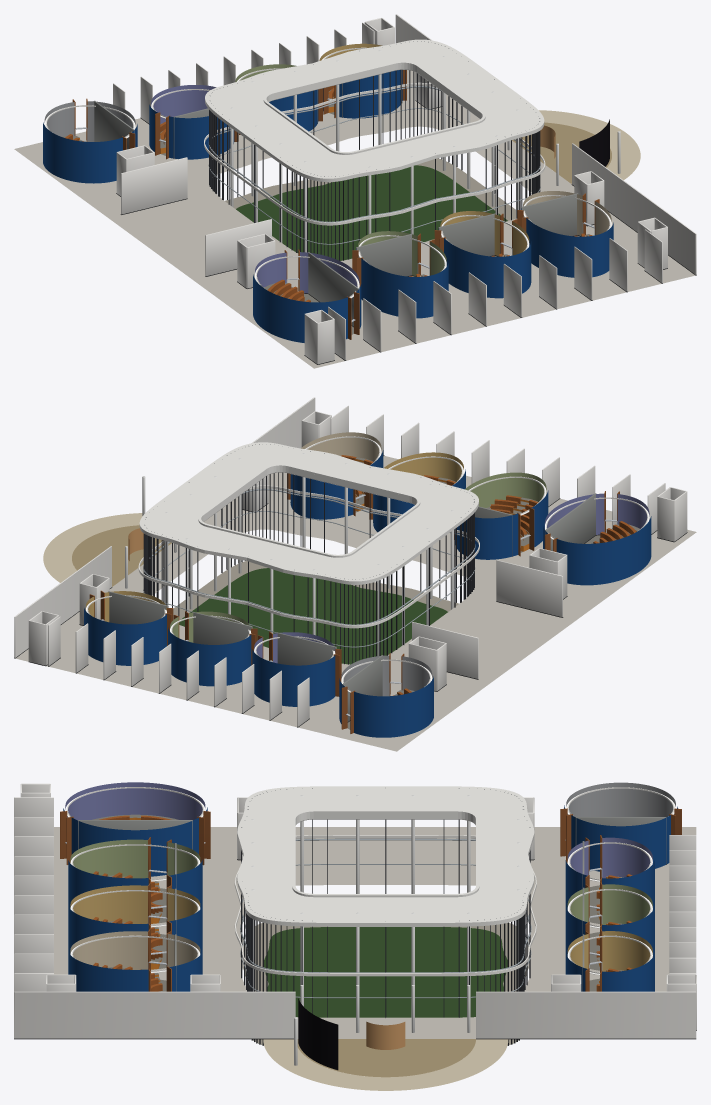
The model's file is building.glb.
3 views of the same model, one above another, from view 1: azimuth 30°, elevation 25°; view 2: azimuth 150°, elevation 25°; view 3: azimuth 270°, elevation 25° (orthographic). The views are drawn at different scales.
Parts seen in each view (by area): view 1: bake_walls__white, bake_floor__carpet, bake_canopy__canopy, bake_lawn__lawn, bake_mullions__mullion, bake_walls__sage, bake_columns__column, bake_drum_2200__drum, bake_walls__slats, bake_drum_2410__drum, bake_drum_2400__drum, bake_drum_2430__drum (+21 smaller); view 2: bake_walls__white, bake_floor__carpet, bake_canopy__canopy, bake_lawn__lawn, bake_mullions__mullion, bake_walls__sage, bake_drum_2400__drum, bake_columns__column, bake_drum_2200__drum, bake_drum_2210__drum, bake_walls__slats, bake_drum_2220__drum (+18 smaller); view 3: bake_walls__white, bake_floor__carpet, bake_canopy__canopy, bake_lawn__lawn, bake_mullions__mullion, bake_terrace__stone, bake_bein_floor__beinCarpet, bake_drumin_2400__drumIn0, bake_walls__slats, bake_drumin_2410__drumIn1, bake_drumin_2420__drumIn2, bake_drumin_2430__drumIn3 (+24 smaller).
Boxes of the visible parts, <box> form: bake_walls__white: <box>113,14,696,364</box>; bake_floor__carpet: <box>14,70,695,368</box>; bake_canopy__canopy: <box>205,39,544,182</box>; bake_lawn__lawn: <box>236,165,507,260</box>; bake_mullions__mullion: <box>209,41,540,260</box>; bake_walls__sage: <box>94,70,577,326</box>; bake_columns__column: <box>230,50,558,252</box>; bake_drum_2200__drum: <box>43,122,137,183</box>; bake_walls__slats: <box>72,70,599,339</box>; bake_drum_2410__drum: <box>356,249,448,318</box>; bake_drum_2400__drum: <box>253,274,361,342</box>; bake_drum_2430__drum: <box>521,208,613,277</box>; bake_walls__white: <box>14,397,687,726</box>; bake_floor__carpet: <box>15,456,696,751</box>; bake_canopy__canopy: <box>139,442,478,584</box>; bake_lawn__lawn: <box>179,568,447,664</box>; bake_mullions__mullion: <box>143,444,474,664</box>; bake_walls__sage: <box>108,493,596,721</box>; bake_drum_2400__drum: <box>543,516,651,585</box>; bake_columns__column: <box>125,453,453,656</box>; bake_drum_2200__drum: <box>339,676,433,737</box>; bake_drum_2210__drum: <box>252,649,335,706</box>; bake_walls__slats: <box>89,473,619,733</box>; bake_drum_2220__drum: <box>168,627,251,686</box>; bake_walls__white: <box>14,783,696,1038</box>; bake_floor__carpet: <box>54,827,696,1038</box>; bake_canopy__canopy: <box>237,786,534,926</box>; bake_lawn__lawn: <box>258,927,507,1043</box>; bake_mullions__mullion: <box>241,788,530,1045</box>; bake_terrace__stone: <box>263,1039,508,1090</box>; bake_bein_floor__beinCarpet: <box>297,1039,475,1077</box>; bake_drumin_2400__drumIn0: <box>65,782,205,820</box>; bake_walls__slats: <box>60,808,681,991</box>; bake_drumin_2410__drumIn1: <box>70,839,200,878</box>; bake_drumin_2420__drumIn2: <box>70,885,200,923</box>; bake_drumin_2430__drumIn3: <box>70,931,200,969</box>.
Size of the model in its own units: 86.5 by 20.1 by 94.64.
